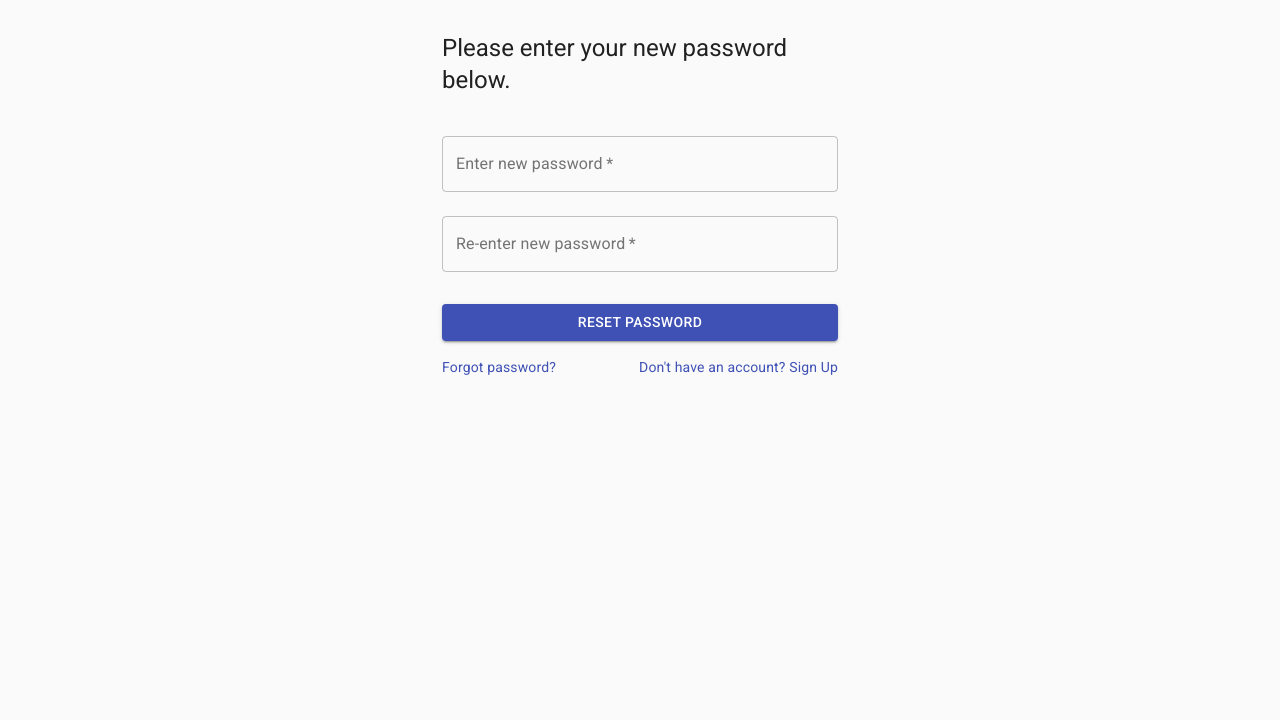
ResetPassword › modal alerts server error
In the password field with test id "password-resetPassword": (640,164) [442,136,838,192], type "zxcvbnm123"
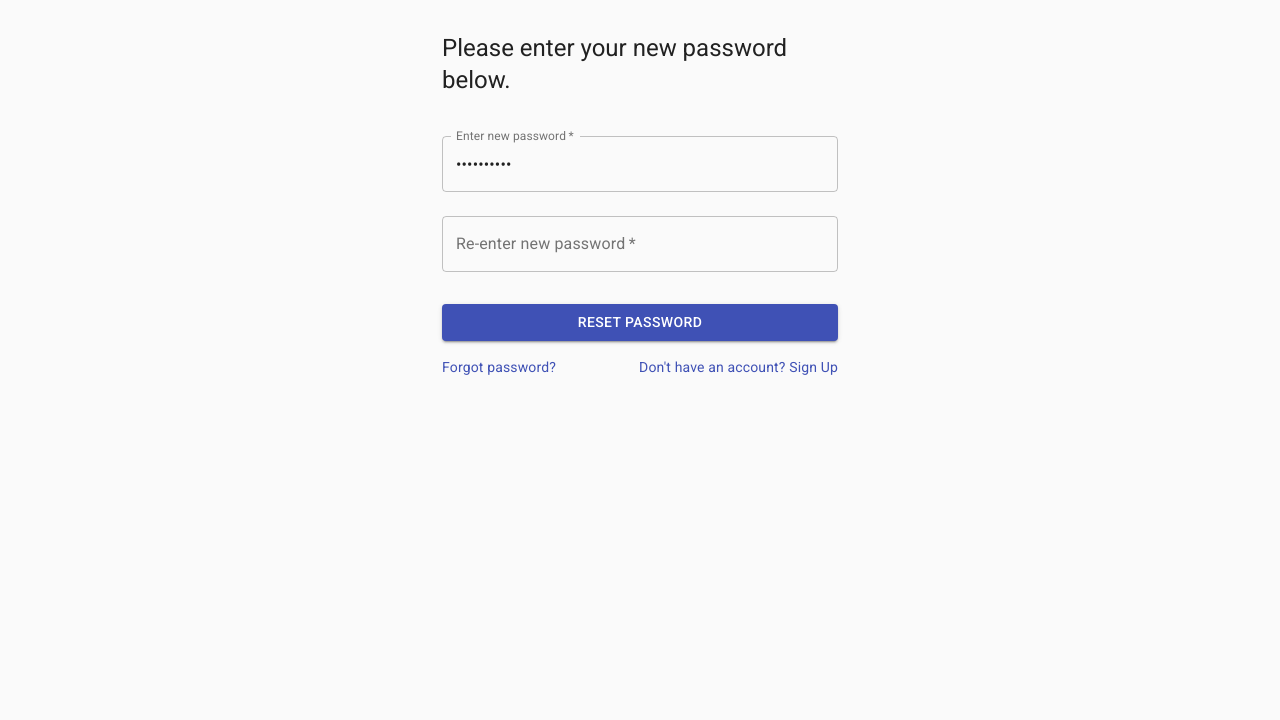
In the password field with test id "passwordVerify-resetPassword": (640,244) [442,216,838,272], type "zxcvbnm123"
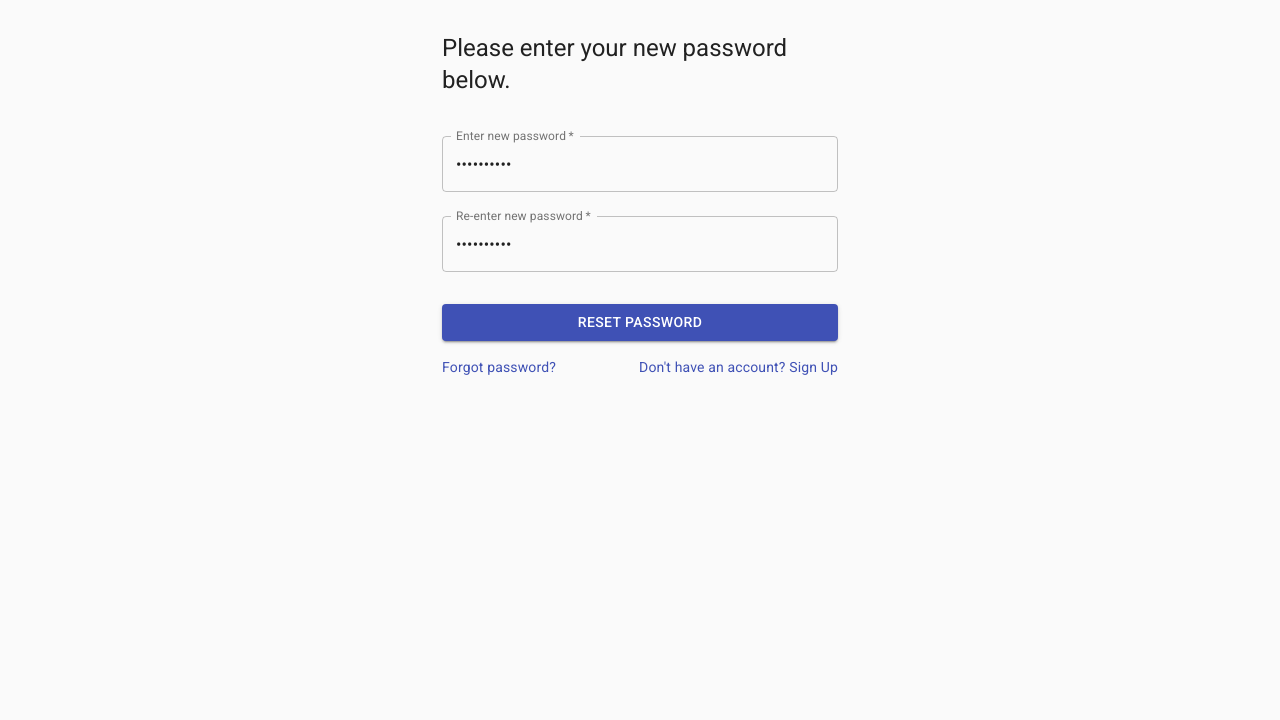
Click the button: (640,322) [442,304,838,340]
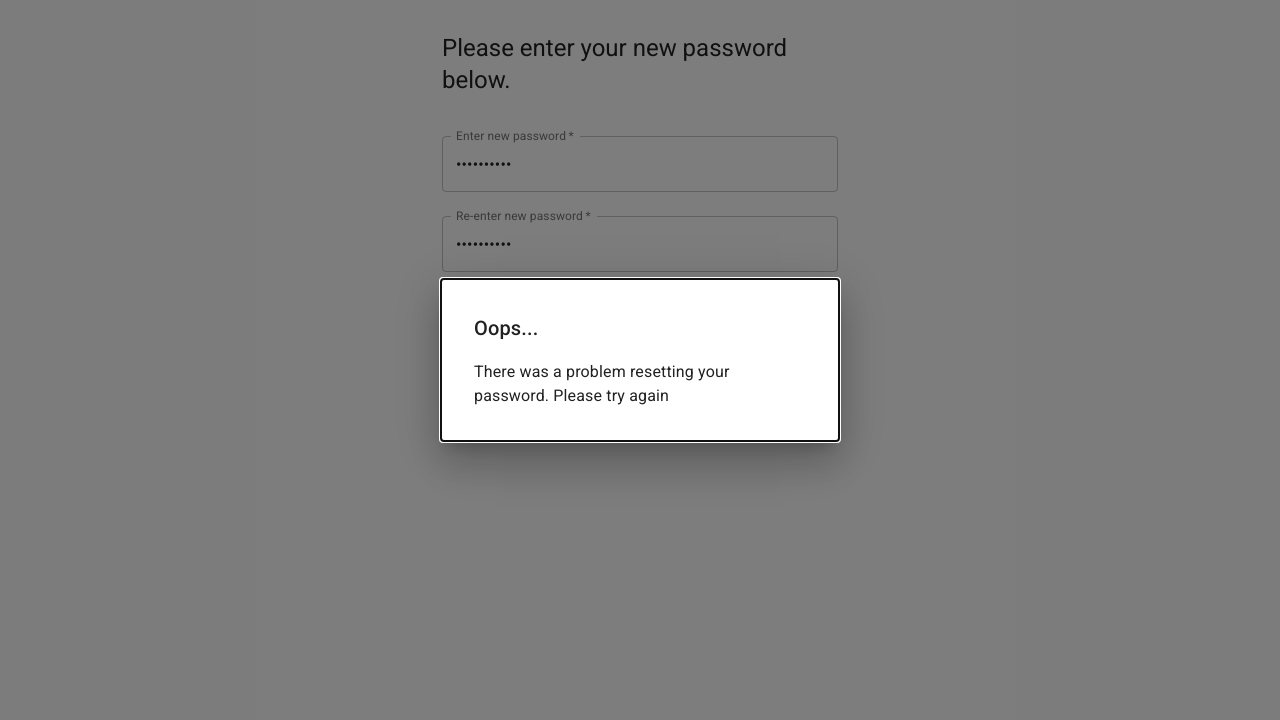
Expected: the heading "Oops..." is shown, [474,316,538,340]
